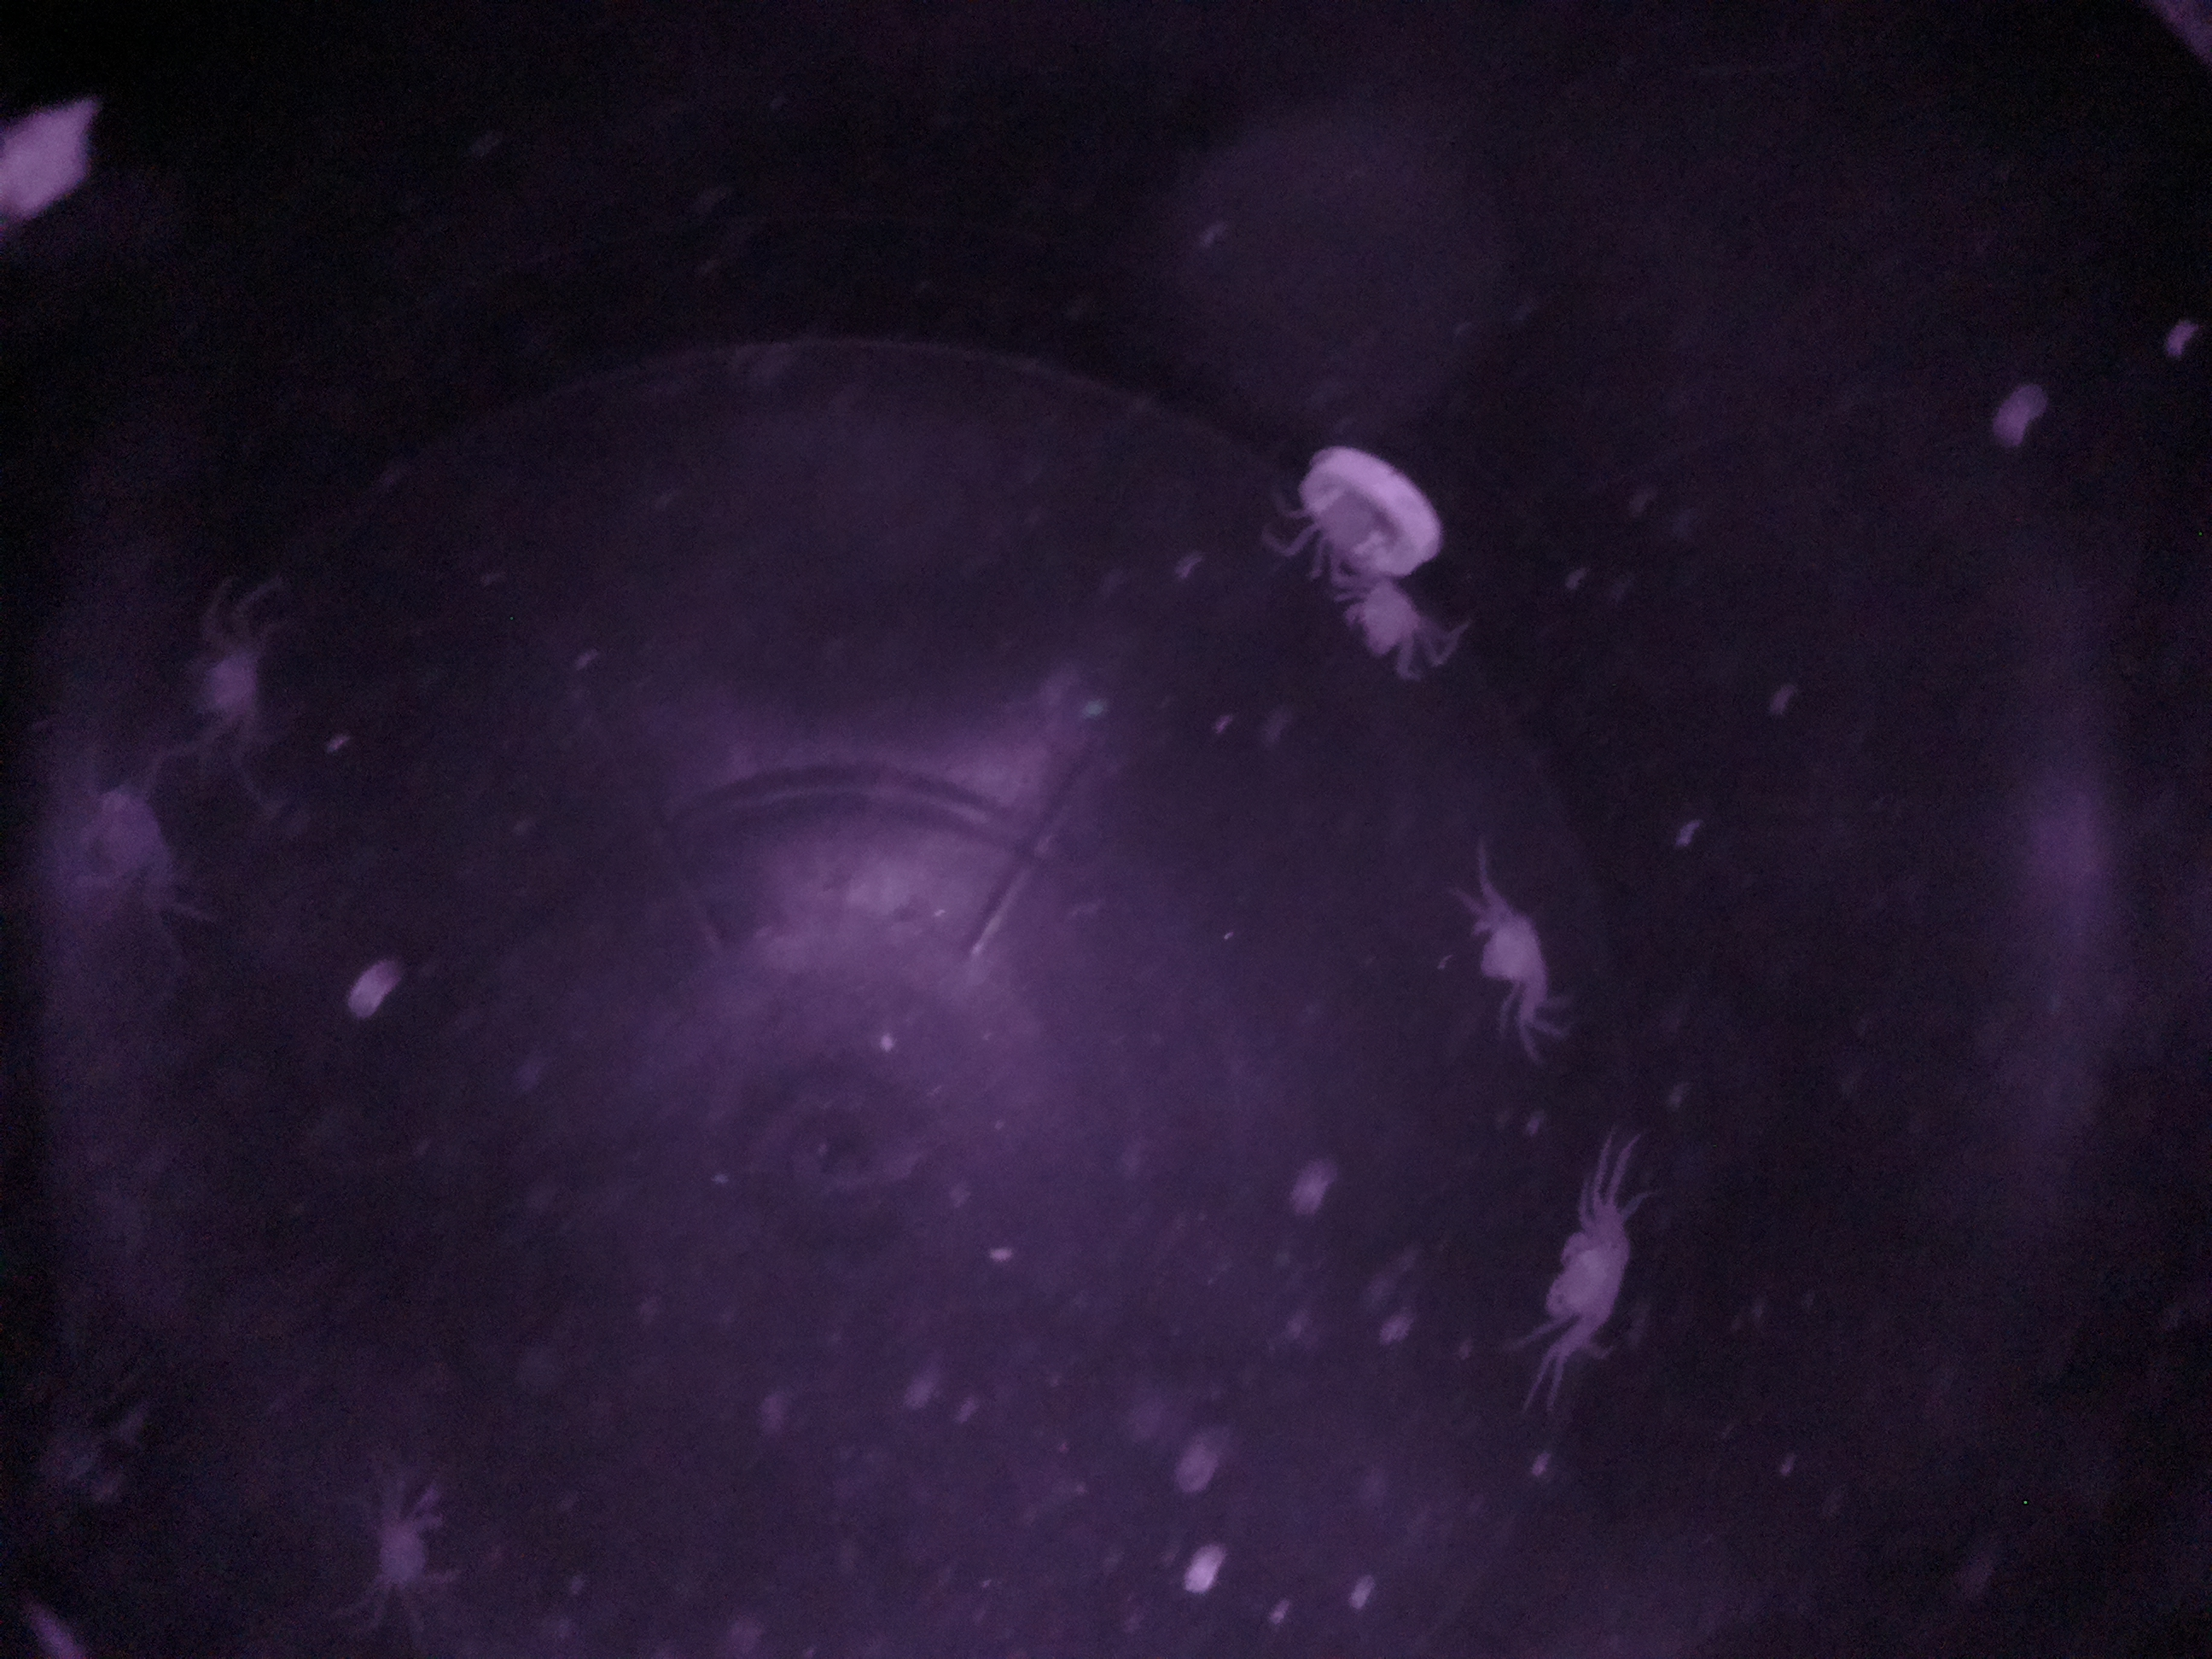Crab: (1521, 1195, 1648, 1364), (1461, 875, 1559, 1018), (1338, 549, 1446, 673)
